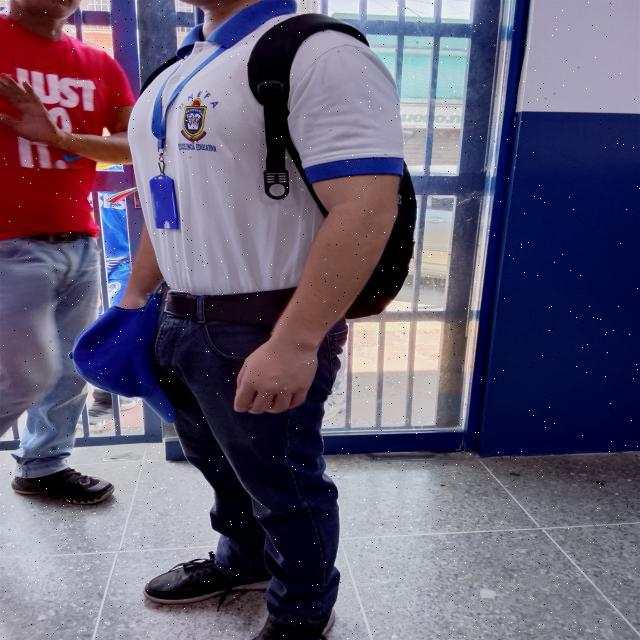carnet: (149, 180, 179, 230)
pantalon_oscuro: (150, 307, 349, 630)
uniforme_superior: (127, 0, 404, 296)
